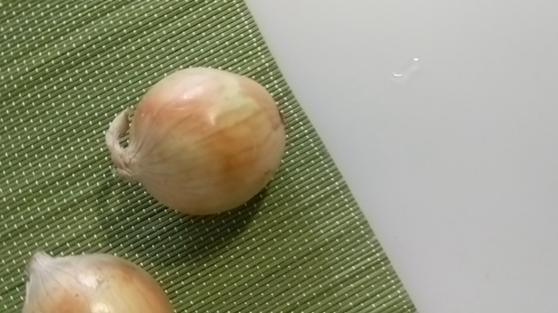onion: (107, 63, 284, 218), (17, 251, 174, 313)
